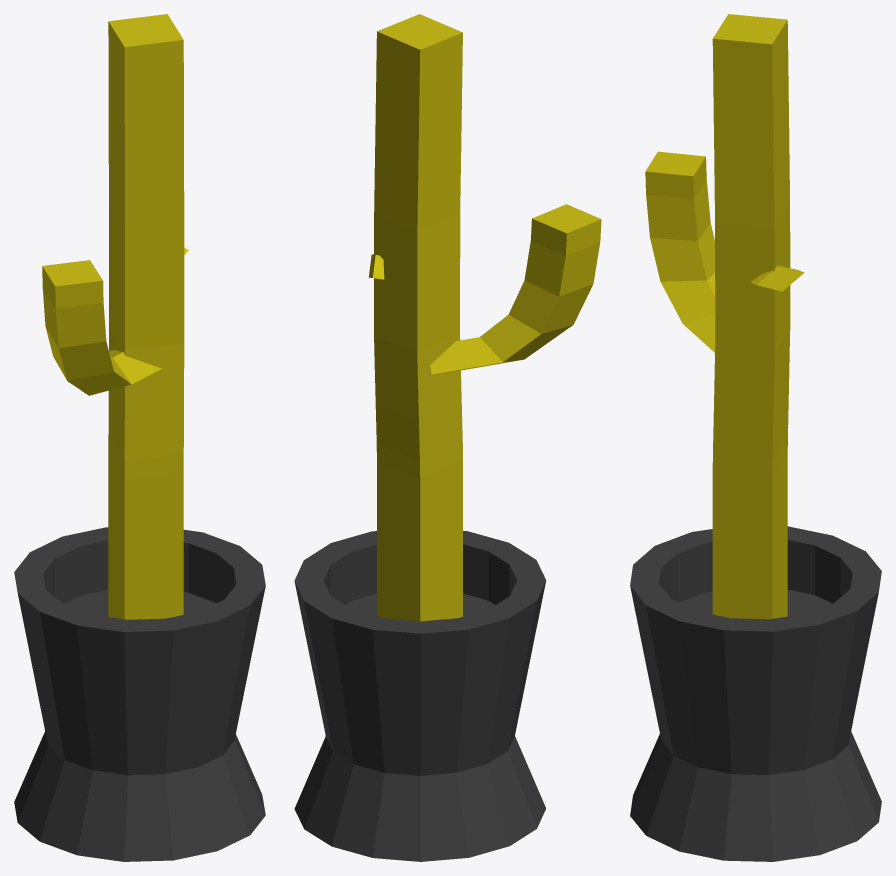
File: cactus_grande_01_000011.obj
3 renders of one model, left to right at view 1: azimuth 30°, elevation 25°; view 2: azimuth 150°, elevation 25°; view 3: azimuth 270°, elevation 25°, orthographic.
Parts seen in each view (by area): view 1: Cylinder, NurbsPath.001, NurbsPath.002; view 2: Cylinder, NurbsPath.001, NurbsPath.002; view 3: Cylinder, NurbsPath.001, NurbsPath.002, NurbsPath.003.
Boxes of the visible parts, left/top/right/bottom form: Cylinder: left=14, top=527, right=265, bottom=861; NurbsPath.001: left=108, top=14, right=184, bottom=619; NurbsPath.002: left=42, top=260, right=161, bottom=395; Cylinder: left=294, top=531, right=546, bottom=861; NurbsPath.001: left=374, top=14, right=462, bottom=621; NurbsPath.002: left=430, top=204, right=601, bottom=375; Cylinder: left=630, top=526, right=881, bottom=861; NurbsPath.001: left=712, top=14, right=790, bottom=619; NurbsPath.002: left=645, top=151, right=715, bottom=352; NurbsPath.003: left=750, top=265, right=804, bottom=291.
Bounding box in the file's own units: 1.43 × 4.41 × 1.29.
